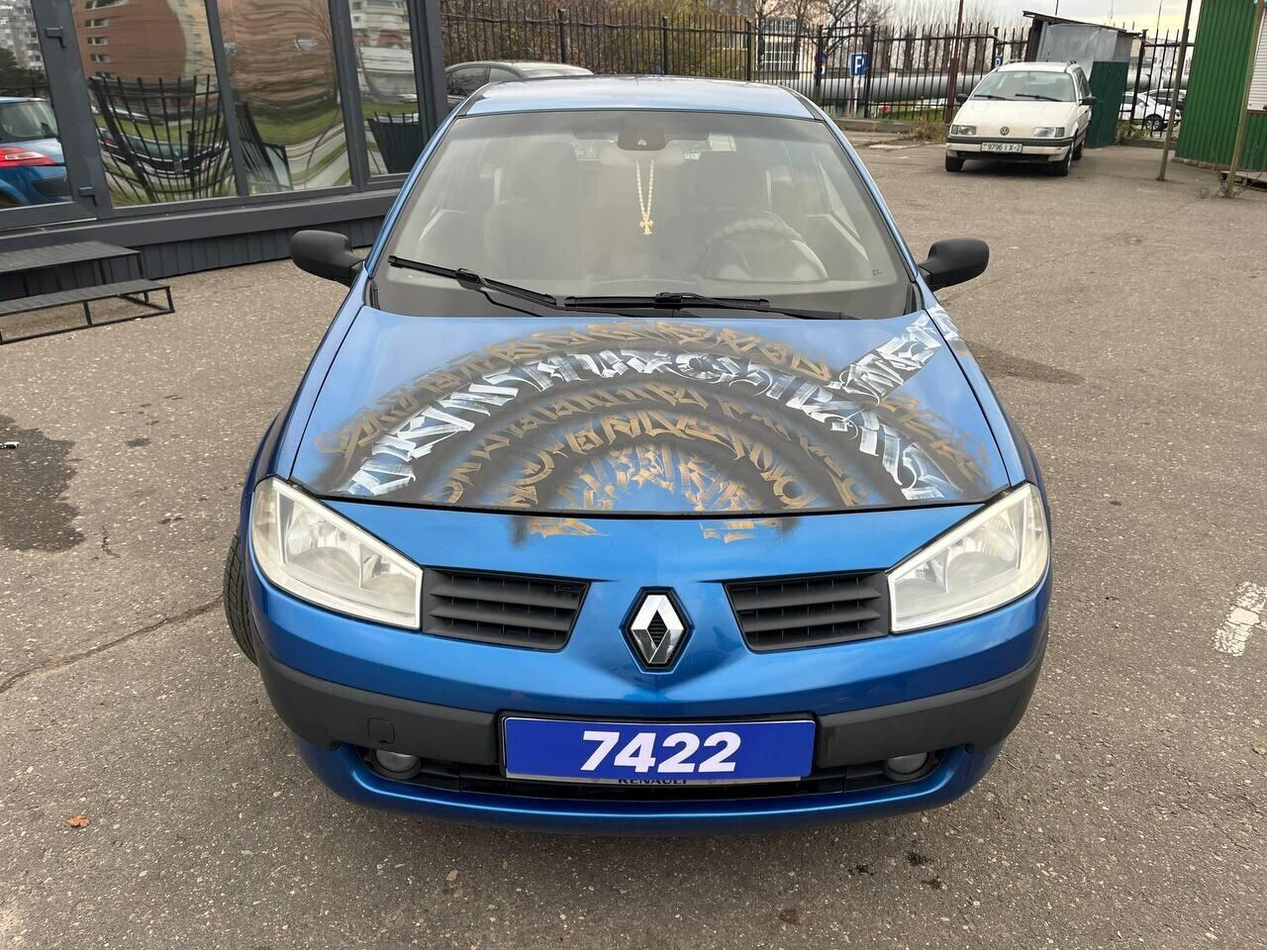Megane_2002-2006: (219, 75, 1060, 840)
